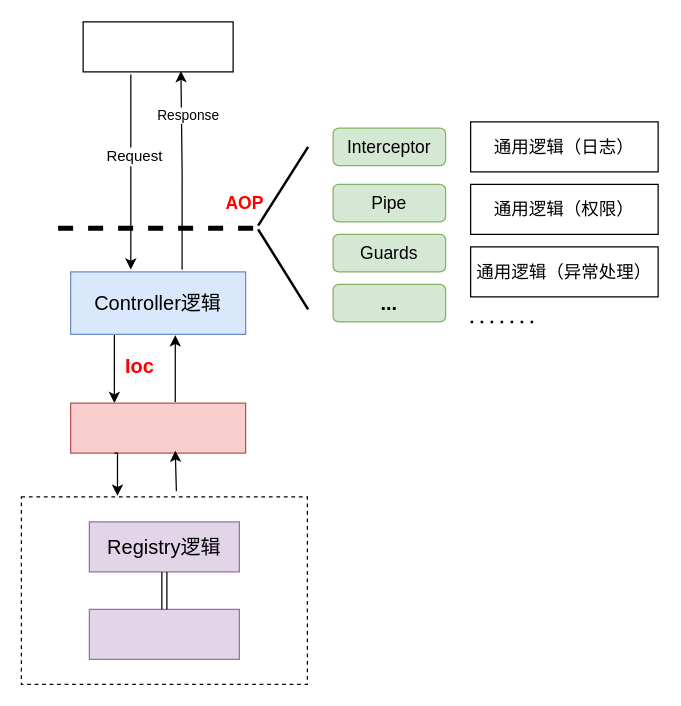
Some shapes in this 681 by 706 pixel diagram are drawn without their labels. Each missing label, with the box of its shape:
PostgreSQL: (88, 608, 239, 659)
Service逻辑: (69, 402, 246, 453)
View视图: (82, 21, 233, 72)
